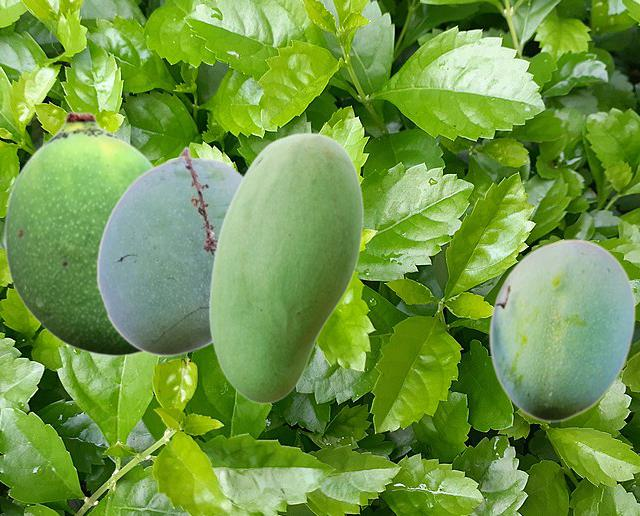green_mango: (208, 132, 362, 403), (4, 111, 154, 356), (96, 146, 243, 355), (488, 238, 635, 421)
